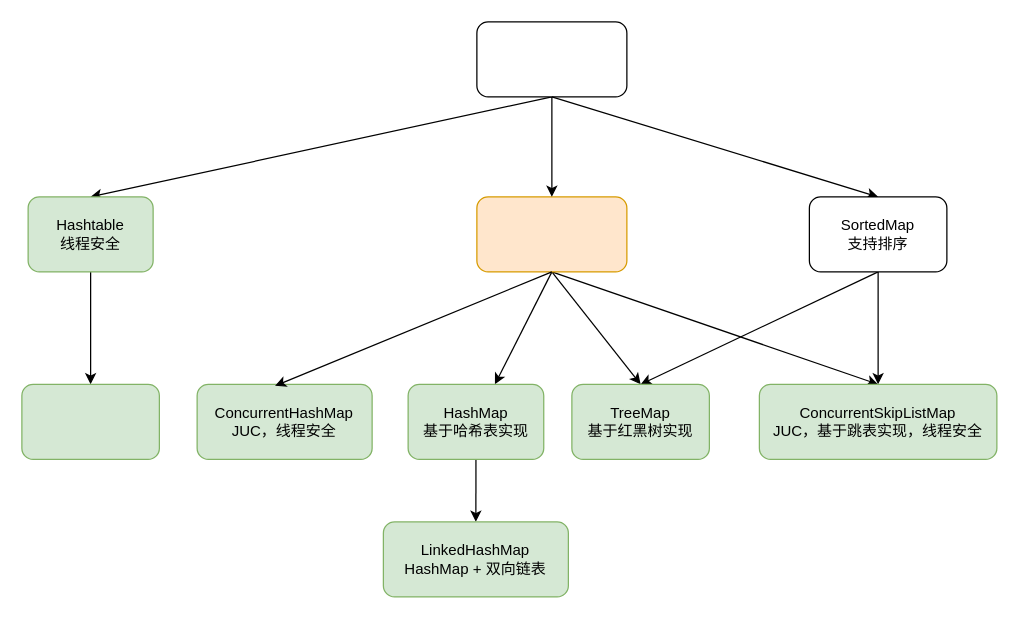
This 1019x619 diagram has some shape labels left out. The box of each missing label's shape, as (x1, y1, x2, y2) in pixels:
AbstractMap: (476, 196, 627, 272)
Map: (476, 21, 627, 97)
Properties 读写配置文件: (21, 383, 159, 459)
